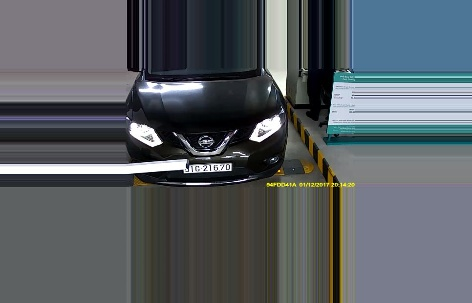plate: (182, 160, 233, 173)
